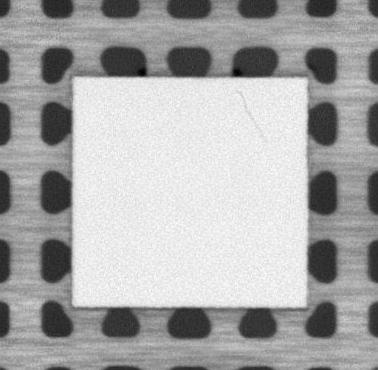DIE_CRACK: (232, 89, 268, 140)
